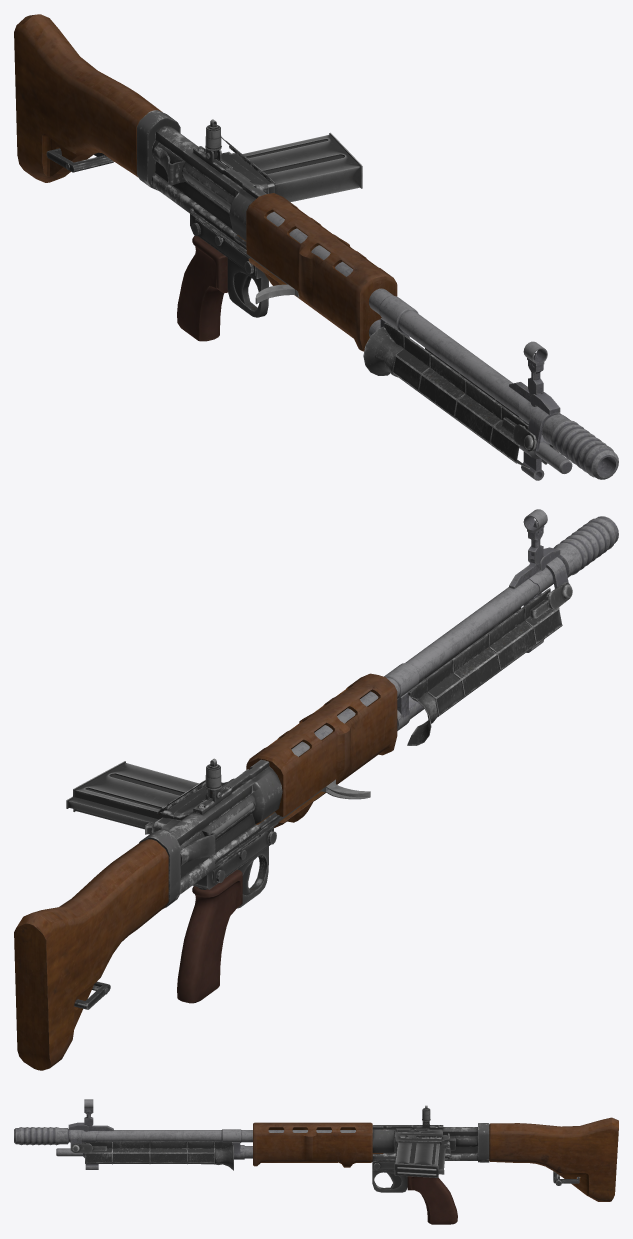
3 renders of one model, top to bottom at view 1: azimuth 30°, elevation 25°; view 2: azimuth 150°, elevation 25°; view 3: azimuth 270°, elevation 25°, orthographic. The views are drawn at different scales.
Parts seen in each view (by area): view 1: Body_Wood, Body_Body, Body_Barrel, Body_Bipod, Magazine, Body_Grip; view 2: Body_Wood, Body_Body, Body_Barrel, Body_Bipod, Magazine, Body_Grip; view 3: Body_Wood, Body_Barrel, Body_Body, Body_Bipod, Magazine, Body_Grip.
Part boxes in pixels (x1,y1,x2,y2): Body_Wood: (14,14,397,351); Body_Body: (46,110,287,317); Body_Barrel: (266,211,618,480); Body_Bipod: (363,322,559,468); Magazine: (242,132,362,202); Body_Grip: (177,235,228,341); Body_Wood: (14,673,397,1070); Body_Body: (74,759,320,1009); Body_Barrel: (291,509,618,756); Body_Bipod: (407,582,572,745); Magazine: (66,761,198,829); Body_Grip: (177,869,242,1003); Body_Wood: (253,1117,618,1201); Body_Barrel: (14,1099,355,1169); Body_Body: (372,1121,579,1192); Body_Bipod: (70,1141,233,1170); Magazine: (394,1141,446,1177); Body_Grip: (407,1176,457,1224).
Size of the model in its own units: 0.1825 by 0.2174 by 0.975.
Materials: 10 (10 with a texture image).
